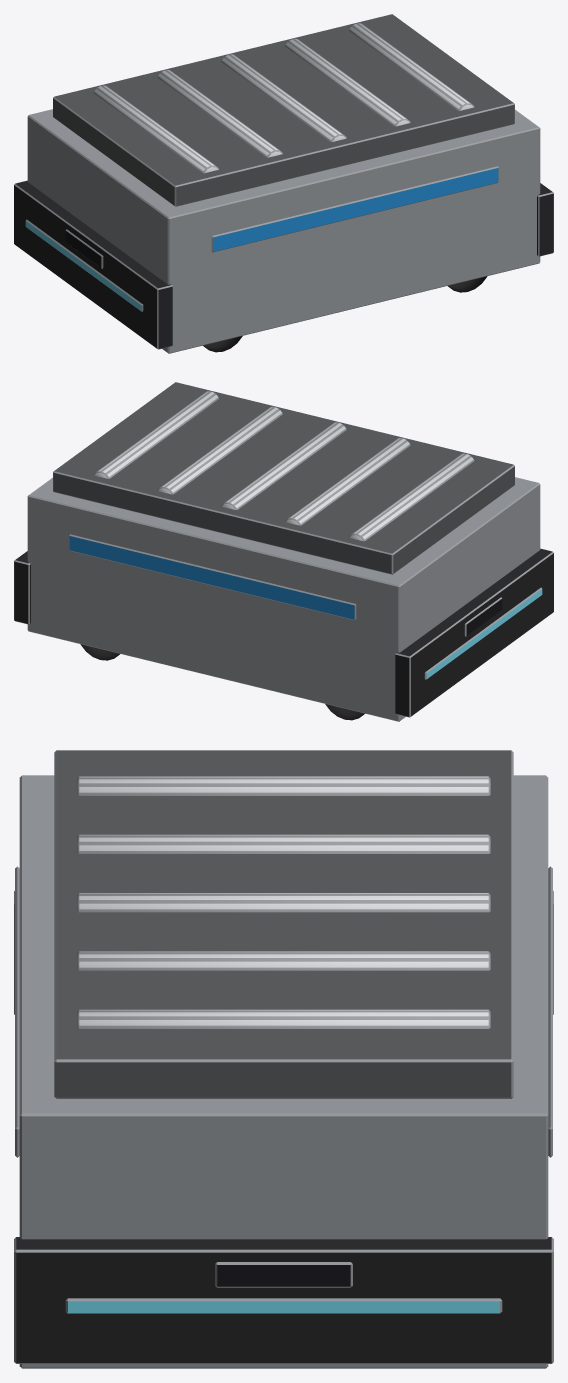
Rendered from airrob_floorbot.fbx.
3 views of the same model, one above another, from view 1: azimuth 30°, elevation 25°; view 2: azimuth 150°, elevation 25°; view 3: azimuth 270°, elevation 25° (orthographic). The views are drawn at different scales.
Parts seen in each view (by area): view 1: AirRobFloorBot_Body, AirRobFloorBot_Wheels; view 2: AirRobFloorBot_Body, AirRobFloorBot_Wheels; view 3: AirRobFloorBot_Body.
Part boxes in pixels (left/top/right/bottom): AirRobFloorBot_Body: left=14, top=14, right=553, bottom=353; AirRobFloorBot_Wheels: left=203, top=276, right=487, bottom=352; AirRobFloorBot_Body: left=14, top=382, right=553, bottom=721; AirRobFloorBot_Wheels: left=80, top=644, right=364, bottom=720; AirRobFloorBot_Body: left=14, top=750, right=553, bottom=1368.
Size of the model in its own units: 0.754 by 0.3275 by 0.47.
